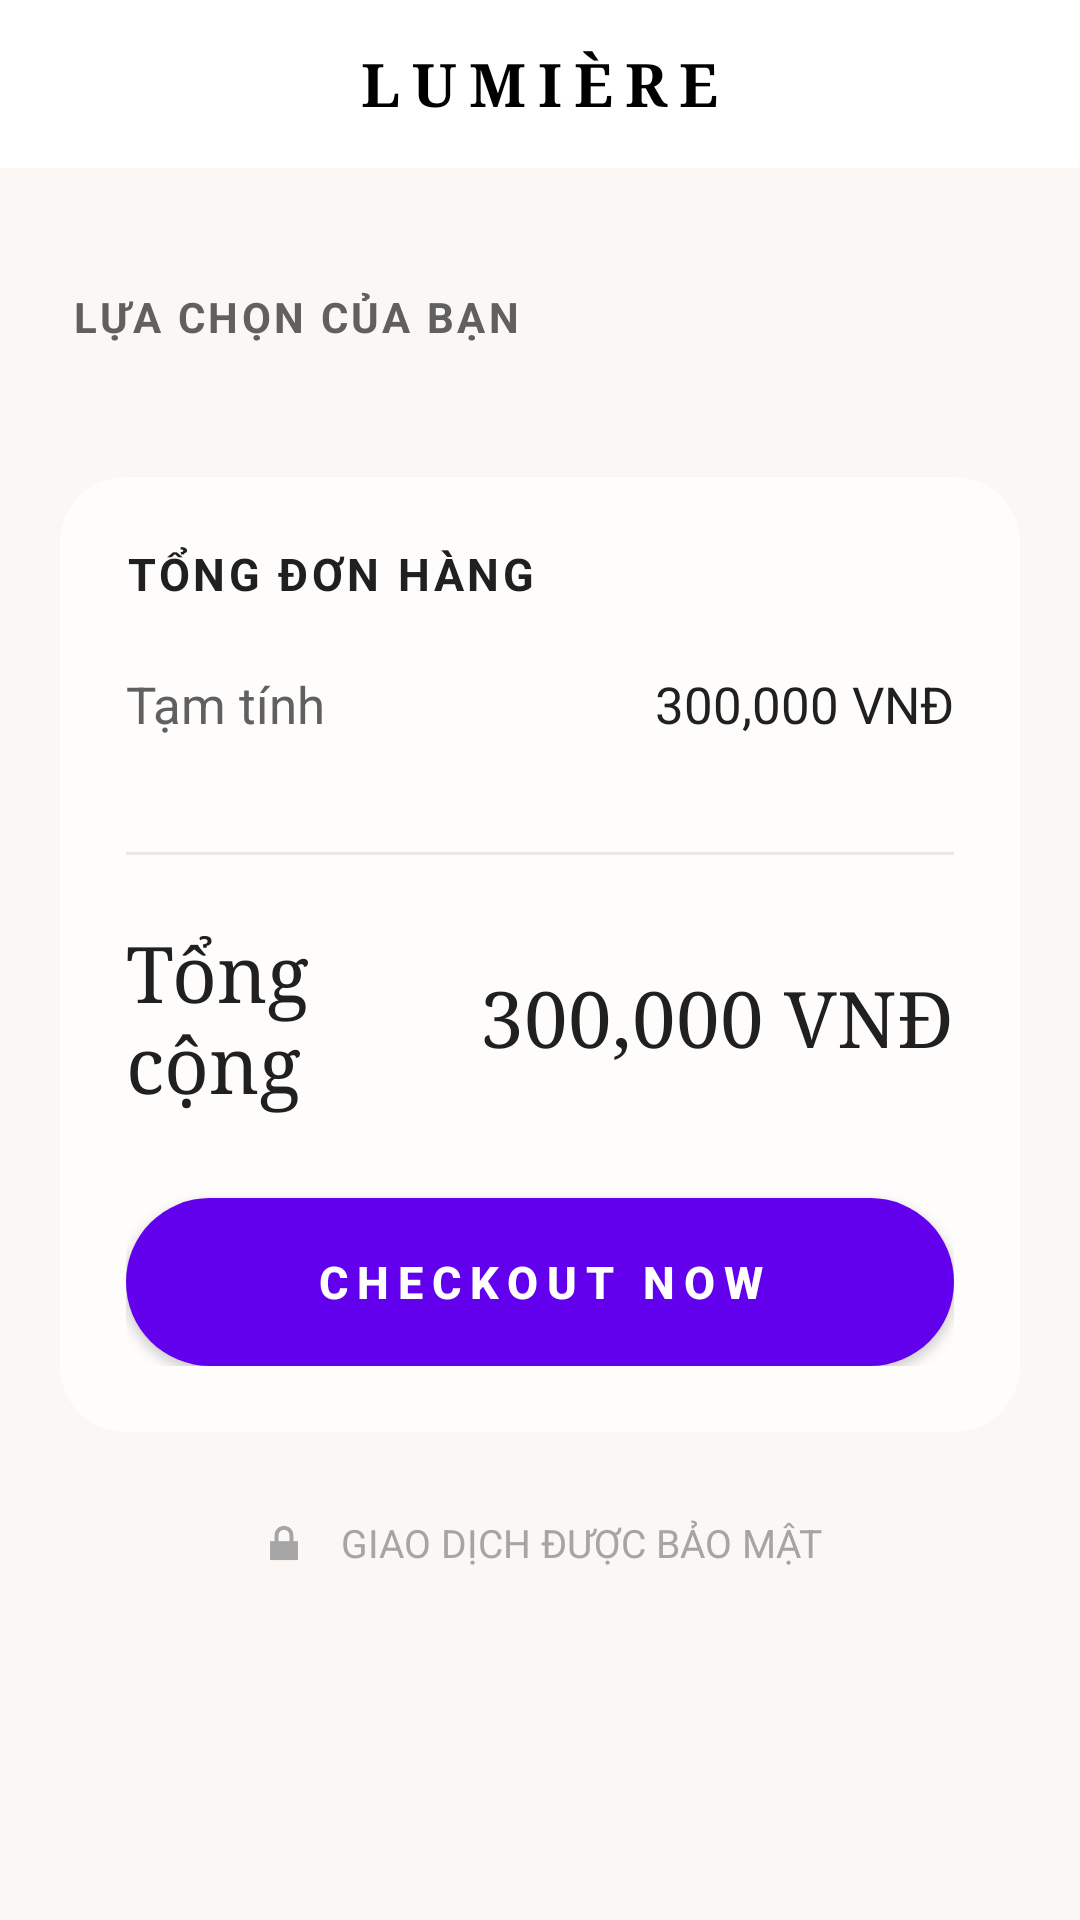

Where icons sit on this 1080w x 1920h app screen, as (x1, y1, x2, y2):
lock: (270, 1526, 298, 1560)
